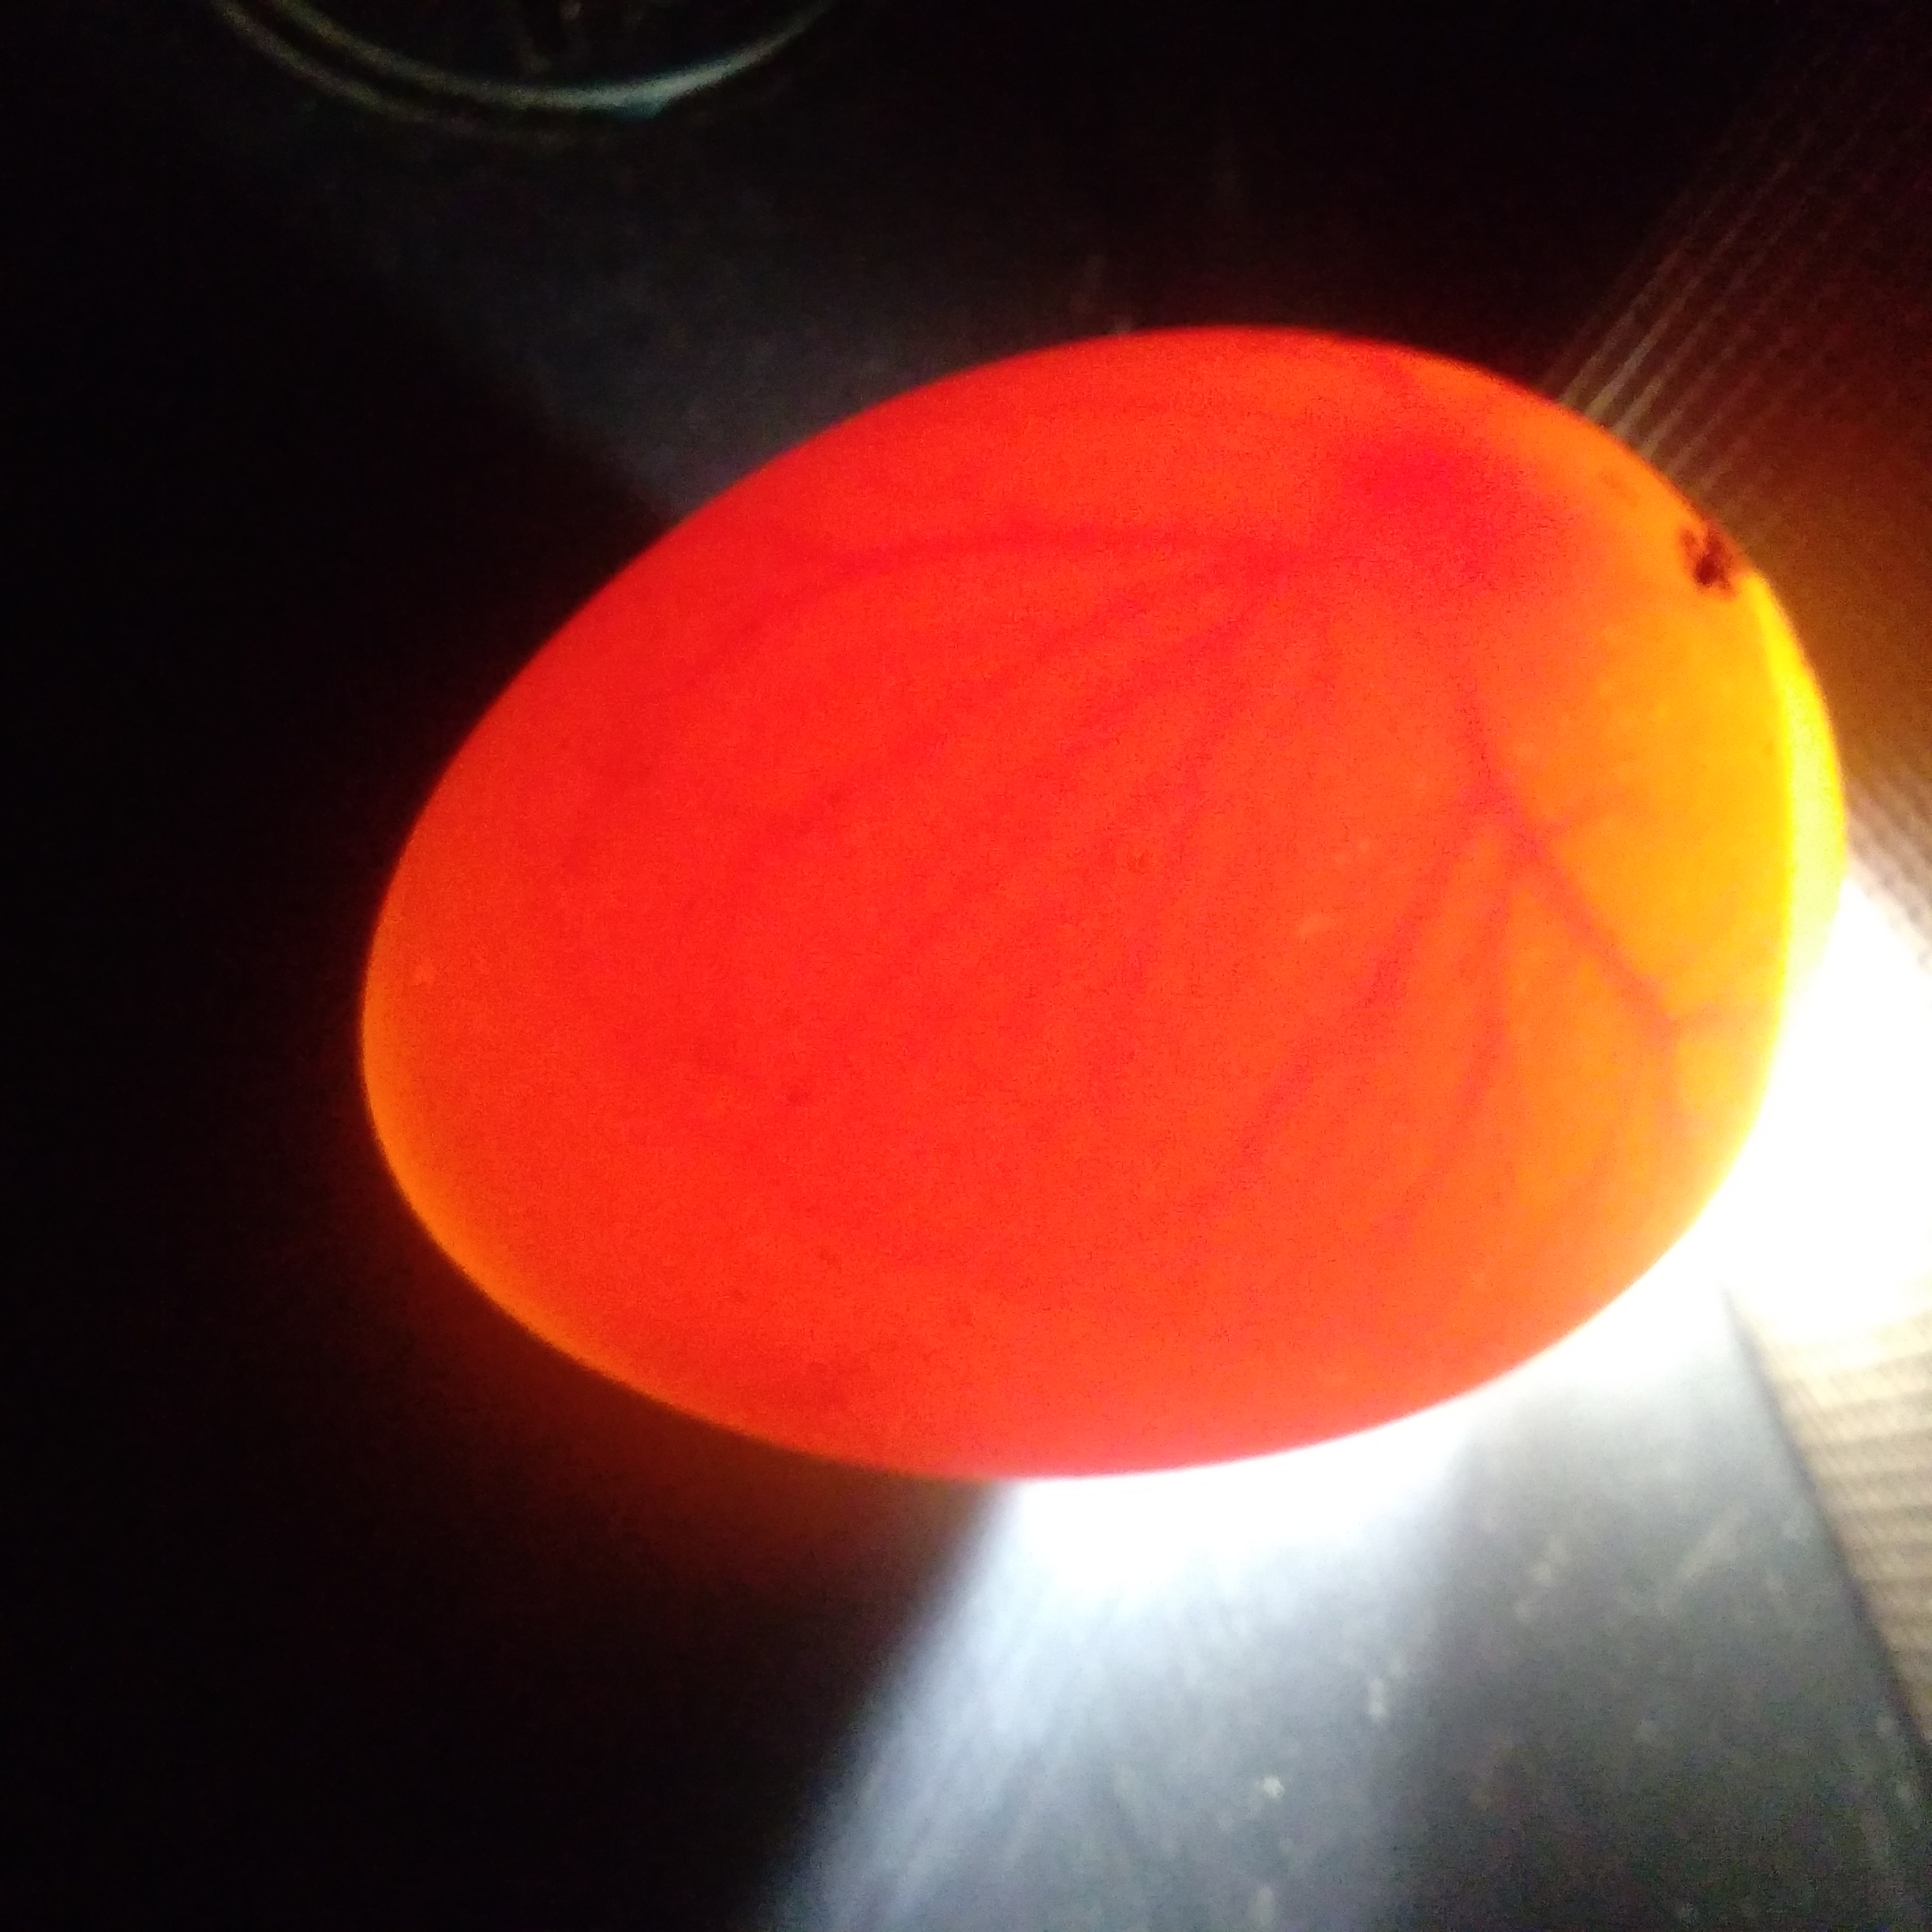bloodcell: (791, 688, 1647, 1247)
embryo: (1355, 410, 1552, 665)
